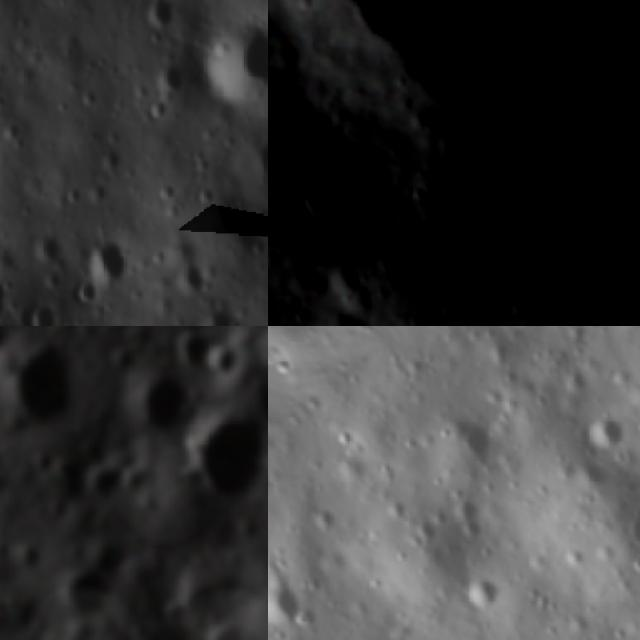crater: (302, 0, 640, 326), (193, 404, 268, 504), (0, 338, 80, 430), (202, 2, 268, 107), (130, 364, 200, 442), (596, 470, 640, 589), (576, 404, 640, 467), (268, 564, 320, 640), (175, 575, 238, 637), (460, 568, 520, 628), (83, 228, 141, 288), (452, 414, 510, 472), (62, 564, 120, 618), (293, 170, 344, 231), (233, 119, 268, 188), (172, 326, 218, 375), (86, 454, 131, 498), (208, 338, 243, 383), (153, 56, 190, 96), (143, 0, 188, 32), (374, 242, 409, 280), (268, 91, 296, 138), (21, 297, 62, 326), (338, 153, 367, 192), (402, 176, 433, 208), (136, 623, 191, 640), (492, 326, 558, 340), (202, 620, 248, 640), (0, 261, 14, 326), (58, 626, 109, 640), (268, 172, 284, 211)
